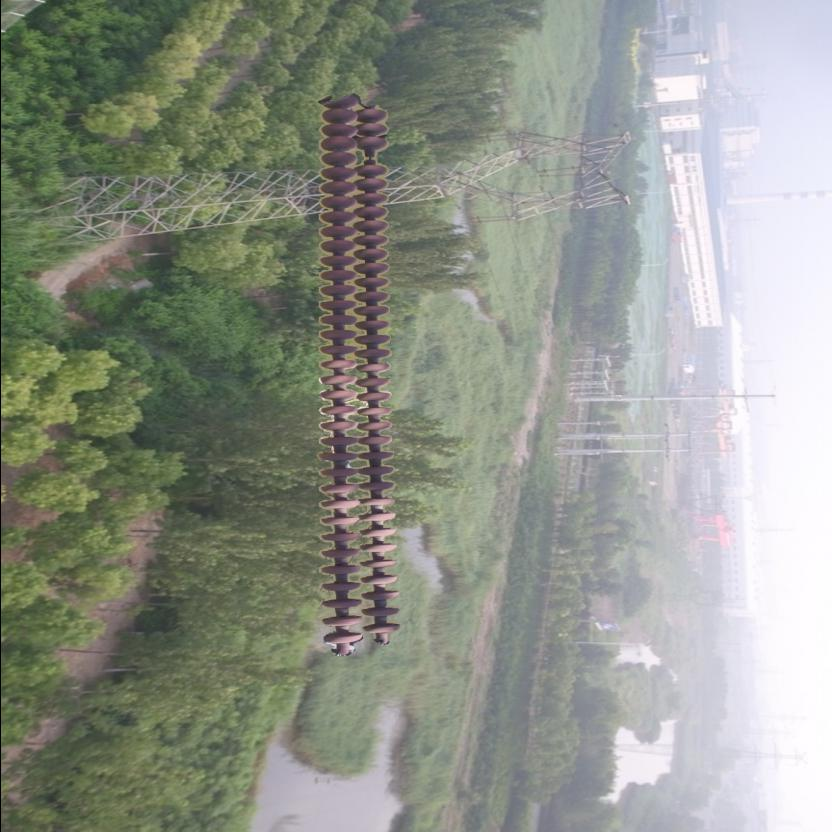defect: (354, 134, 390, 174)
